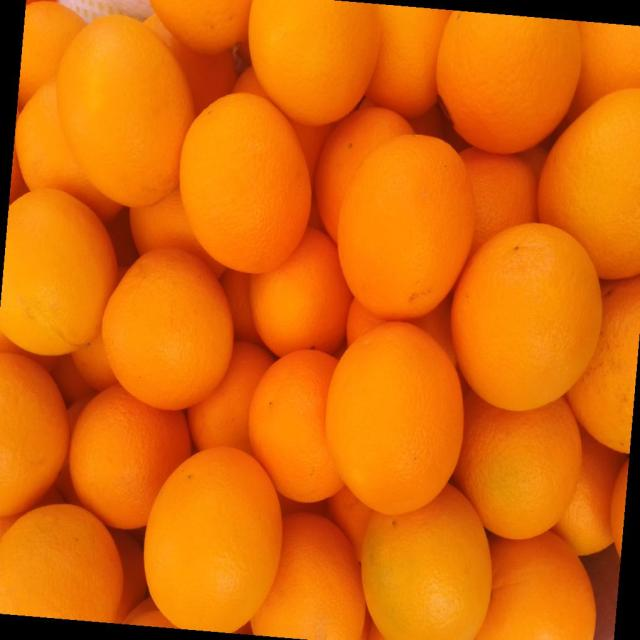fresh orange: (3, 2, 636, 636), (319, 305, 475, 543), (447, 364, 611, 564), (344, 458, 511, 640), (56, 14, 191, 203), (142, 446, 282, 628), (336, 134, 474, 316), (178, 93, 309, 271), (101, 248, 234, 410), (437, 13, 580, 151), (0, 188, 115, 356), (540, 89, 638, 275), (472, 516, 612, 640), (69, 386, 189, 529), (14, 76, 128, 219), (249, 1, 379, 124), (247, 349, 348, 502), (0, 504, 125, 620), (316, 105, 412, 246), (250, 232, 350, 356), (1, 352, 68, 518), (188, 343, 276, 456), (366, 6, 455, 114), (130, 190, 230, 274), (462, 150, 537, 255), (18, 0, 82, 111)
